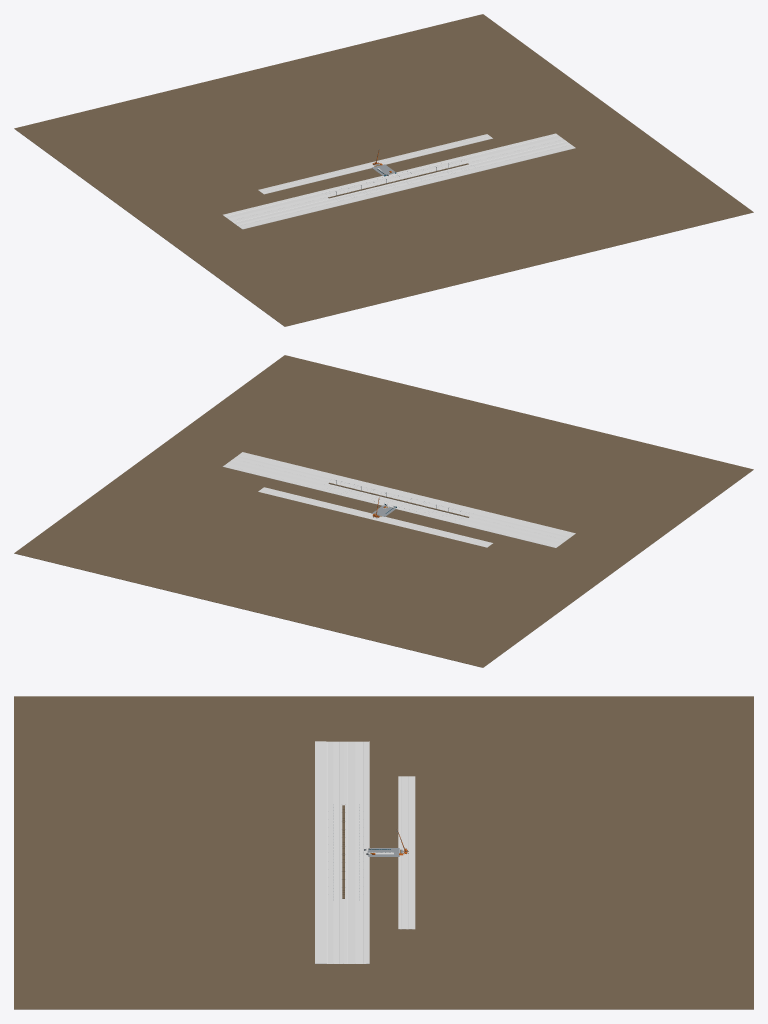
The model's file is login-site-street.glb.
3 views of the same model, one above another, from view 1: azimuth 30°, elevation 25°; view 2: azimuth 150°, elevation 25°; view 3: azimuth 270°, elevation 25° (orthographic). The views are drawn at different scales.
Parts seen in each view (by area): view 1: street-misc, street-street; view 2: street-misc, street-street; view 3: street-misc, street-street.
Boxes of the visible parts, left/top/right/bottom form: street-misc: left=14, top=14, right=753, bottom=326; street-street: left=223, top=133, right=575, bottom=229; street-misc: left=14, top=355, right=753, bottom=667; street-street: left=222, top=452, right=575, bottom=547; street-misc: left=14, top=696, right=753, bottom=1009; street-street: left=315, top=741, right=415, bottom=963.
Bounding box in the file's own units: 900 × 33.3 × 900.
